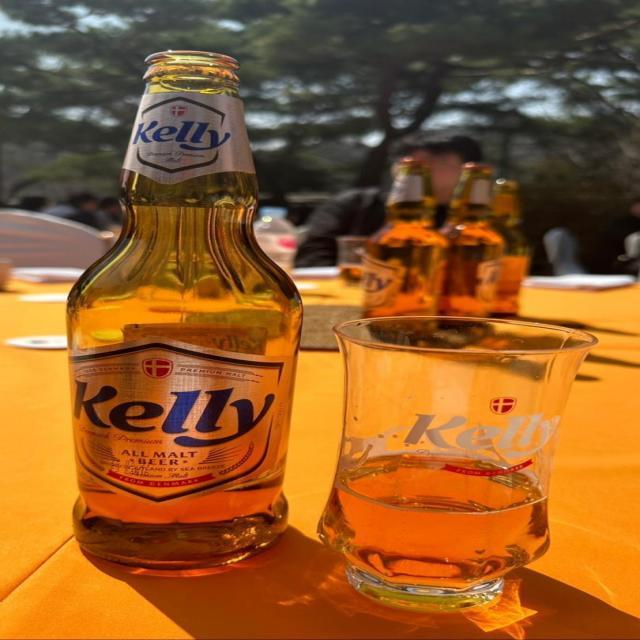beer-bottle: (56, 19, 314, 626), (358, 159, 448, 319), (432, 158, 506, 329), (472, 177, 530, 325)
